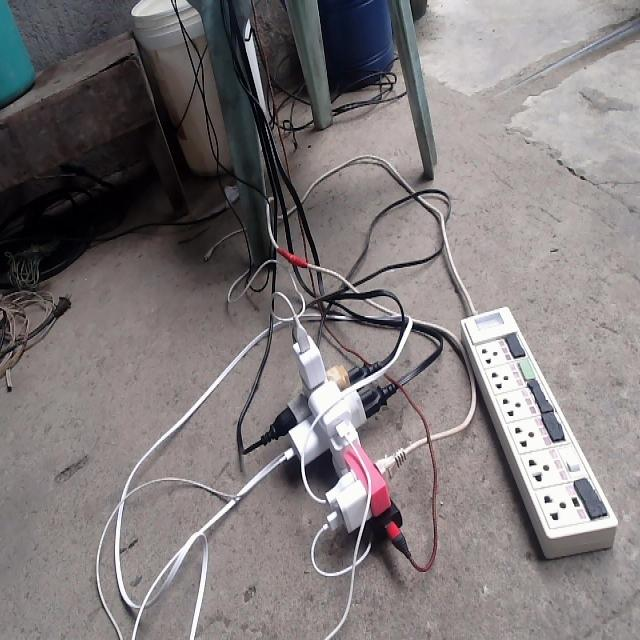-: (263, 332, 406, 543)
